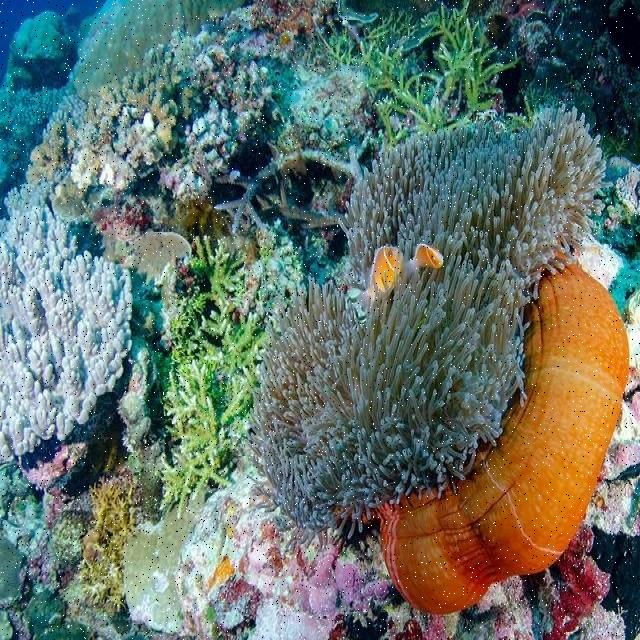fish: (357, 241, 399, 312), (407, 243, 443, 276)
reefs: (174, 157, 639, 639), (238, 103, 630, 616), (25, 0, 376, 227), (0, 285, 217, 639), (158, 222, 349, 520), (0, 0, 245, 220), (312, 0, 639, 164), (0, 182, 133, 460), (90, 172, 227, 316), (213, 127, 382, 238)
